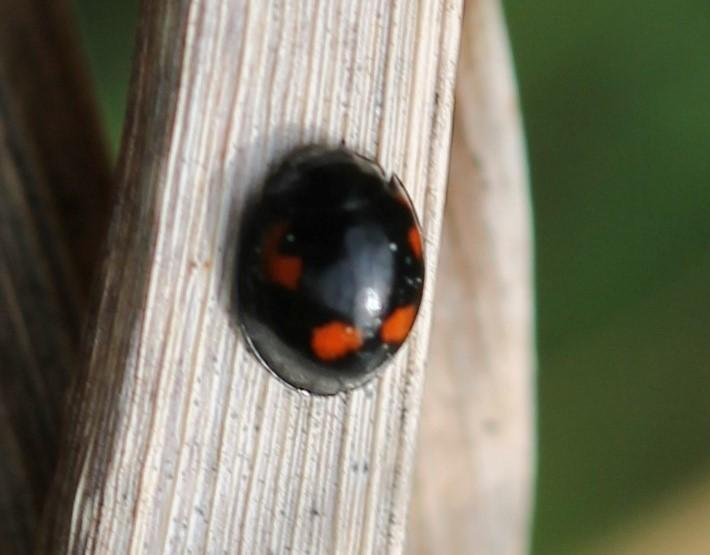ladybug: (237, 140, 431, 401)
